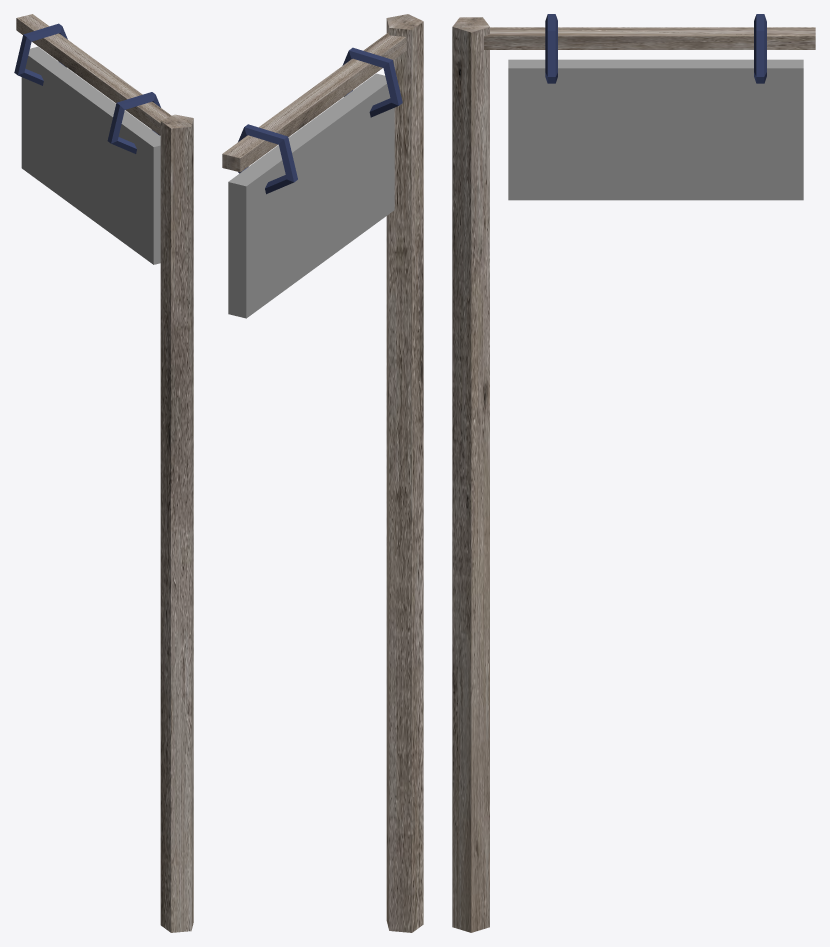
The model's file is signpost_01.fbx.
3 views of the same model, side by side, from view 1: azimuth 30°, elevation 25°; view 2: azimuth 150°, elevation 25°; view 3: azimuth 270°, elevation 25° (orthographic). The views are drawn at different scales.
Parts seen in each view (by area): view 1: pCylinder1, pCube2, pCube1, pTorus2, pTorus1; view 2: pCylinder1, pCube2, pCube1, pTorus2, pTorus1; view 3: pCube2, pCylinder1, pCube1, pTorus2, pTorus1.
Part boxes in pixels (x1,y1,x2,y2): pCylinder1: (160, 114, 193, 932); pCube2: (21, 46, 160, 264); pCube1: (16, 14, 171, 135); pTorus2: (14, 23, 67, 85); pTorus1: (107, 92, 160, 153); pCylinder1: (386, 14, 423, 932); pCube2: (228, 73, 394, 318); pCube1: (222, 32, 406, 172); pTorus2: (238, 124, 297, 194); pTorus1: (342, 47, 402, 117); pCube2: (508, 59, 803, 200); pCylinder1: (452, 17, 489, 932); pCube1: (484, 27, 815, 49); pTorus2: (754, 14, 766, 83); pTorus1: (545, 14, 557, 83).
Bounding box in the file's own units: 0.4631 × 6.18 × 2.26.
Materials: 3 (1 with a texture image).
